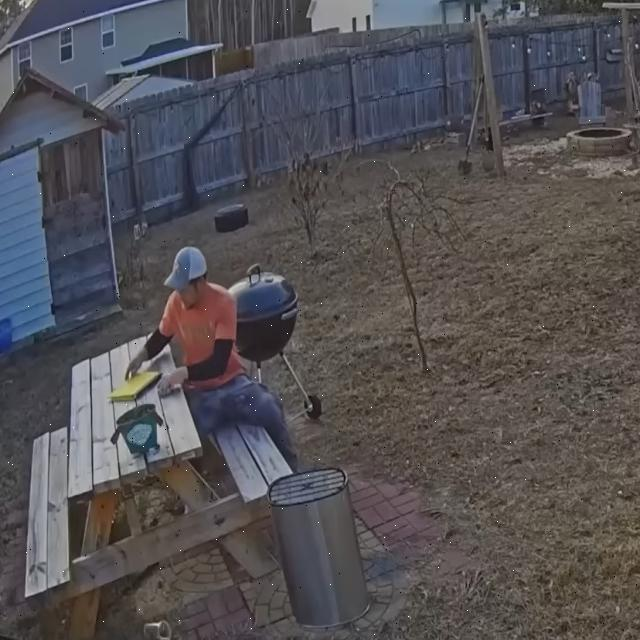sitting: (126, 247, 298, 470)
